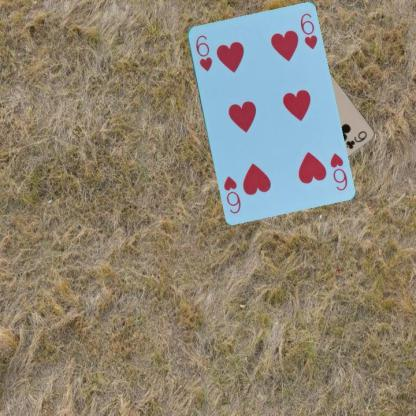6h: (327, 150, 348, 192), (192, 32, 214, 72)
